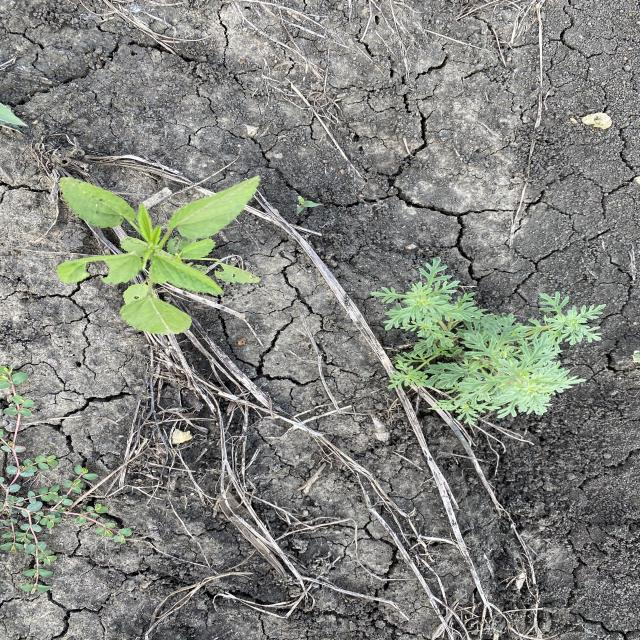PricklySida: (52, 174, 265, 338)
Ragweed: (370, 252, 610, 431)
SpottedSpurge: (2, 365, 136, 600)
